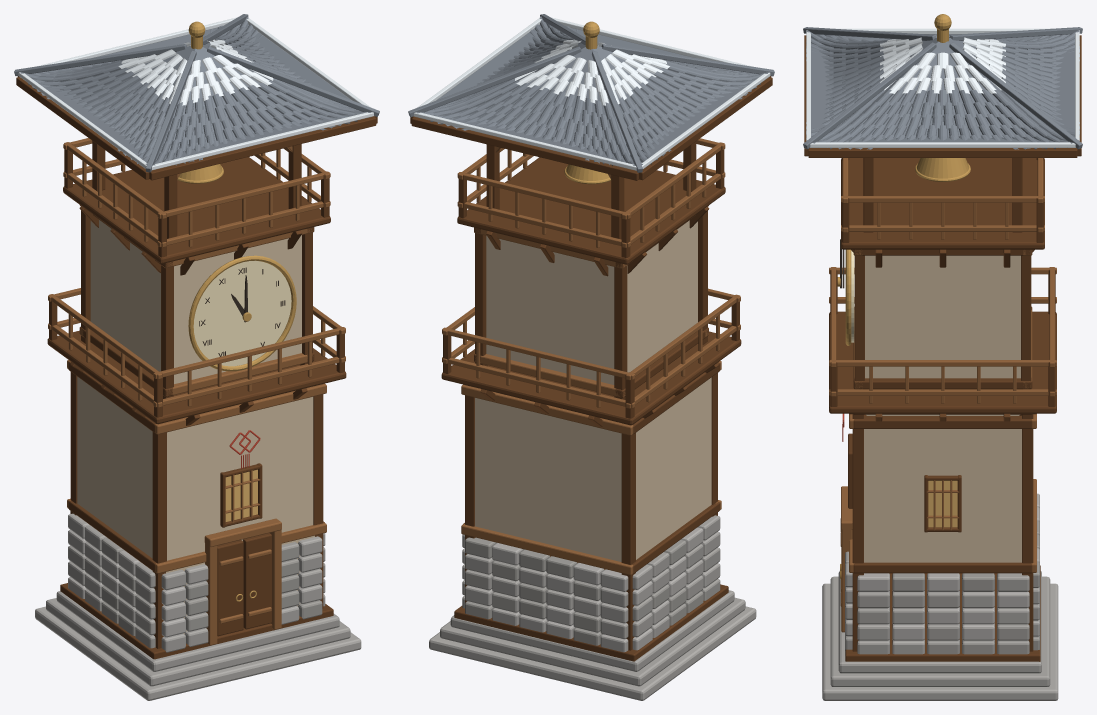
File: clocktower.glb
3 views of the same model, side by side, from view 1: azimuth 30°, elevation 25°; view 2: azimuth 150°, elevation 25°; view 3: azimuth 270°, elevation 25° (orthographic). The views are drawn at different scales.
Parts seen in each view (by area): view 1: Clocktower_Warm_walnut_timber, Clocktower_Ivory_lime_plaster, Clocktower_Grey_blue_roof_tiles, Clocktower_Honey_wood_edges, Clocktower_Stone_2, Clocktower_Soft_roof_snow, Clocktower_Stone_3, Clock face, Clocktower_Stone_0, Clocktower_Antique_brass, Door leaf.001, Door leaf (+3 smaller); view 2: Clocktower_Ivory_lime_plaster, Clocktower_Warm_walnut_timber, Clocktower_Grey_blue_roof_tiles, Clocktower_Honey_wood_edges, Clocktower_Stone_2, Clocktower_Stone_3, Clocktower_Soft_roof_snow, Clocktower_Stone_0, Clocktower_Stone_4, Clocktower_Stone_1, Clocktower_Antique_brass; view 3: Clocktower_Warm_walnut_timber, Clocktower_Ivory_lime_plaster, Clocktower_Grey_blue_roof_tiles, Clocktower_Honey_wood_edges, Clocktower_Stone_2, Clocktower_Soft_roof_snow, Clocktower_Stone_3, Clocktower_Stone_1, Clocktower_Stone_4, Clocktower_Stone_0, Clocktower_Antique_brass, Clocktower_Warm_window_panes (+1 smaller).
Boxes of the visible parts, bbox=[...] form: Clocktower_Warm_walnut_timber: bbox=[16, 76, 377, 659]; Clocktower_Ivory_lime_plaster: bbox=[77, 220, 314, 633]; Clocktower_Grey_blue_roof_tiles: bbox=[14, 14, 379, 172]; Clocktower_Honey_wood_edges: bbox=[48, 138, 345, 645]; Clocktower_Stone_2: bbox=[46, 525, 350, 686]; Clocktower_Soft_roof_snow: bbox=[18, 17, 373, 170]; Clocktower_Stone_3: bbox=[35, 513, 361, 700]; Clock face: bbox=[193, 260, 291, 366]; Clocktower_Stone_0: bbox=[85, 538, 322, 635]; Clocktower_Antique_brass: bbox=[177, 21, 296, 371]; Door leaf.001: bbox=[243, 533, 271, 629]; Door leaf: bbox=[217, 540, 243, 636]; Clocktower_Ivory_lime_plaster: bbox=[475, 220, 711, 561]; Clocktower_Warm_walnut_timber: bbox=[410, 76, 772, 661]; Clocktower_Grey_blue_roof_tiles: bbox=[408, 14, 774, 172]; Clocktower_Honey_wood_edges: bbox=[442, 138, 740, 575]; Clocktower_Stone_2: bbox=[440, 515, 745, 686]; Clocktower_Stone_3: bbox=[429, 542, 756, 700]; Clocktower_Soft_roof_snow: bbox=[413, 17, 770, 170]; Clocktower_Stone_0: bbox=[465, 537, 703, 645]; Clocktower_Stone_4: bbox=[462, 527, 703, 652]; Clocktower_Stone_1: bbox=[462, 544, 720, 621]; Clocktower_Antique_brass: bbox=[564, 21, 611, 184]; Clocktower_Warm_walnut_timber: bbox=[804, 35, 1081, 661]; Clocktower_Ivory_lime_plaster: bbox=[864, 255, 1021, 562]; Clocktower_Grey_blue_roof_tiles: bbox=[803, 27, 1082, 149]; Clocktower_Honey_wood_edges: bbox=[829, 158, 1056, 632]; Clocktower_Stone_2: bbox=[830, 571, 1050, 686]; Clocktower_Soft_roof_snow: bbox=[806, 28, 1079, 147]; Clocktower_Stone_3: bbox=[822, 563, 1058, 700]; Clocktower_Stone_1: bbox=[845, 551, 1039, 654]; Clocktower_Stone_4: bbox=[857, 493, 1039, 640]; Clocktower_Stone_0: bbox=[845, 521, 1039, 650]; Clocktower_Antique_brass: bbox=[837, 14, 970, 345]; Clocktower_Warm_window_panes: bbox=[928, 480, 957, 527].
Bounding box in the file's own units: 5.45 × 13.61 × 5.45.
